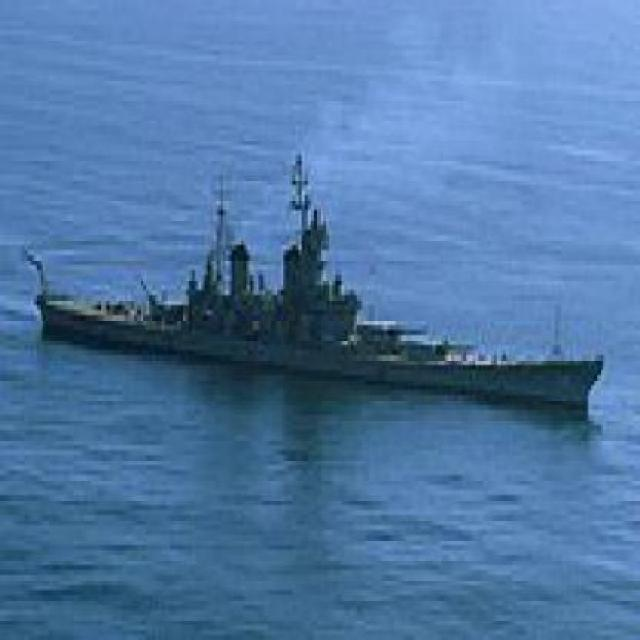warship2: (19, 116, 605, 421)
